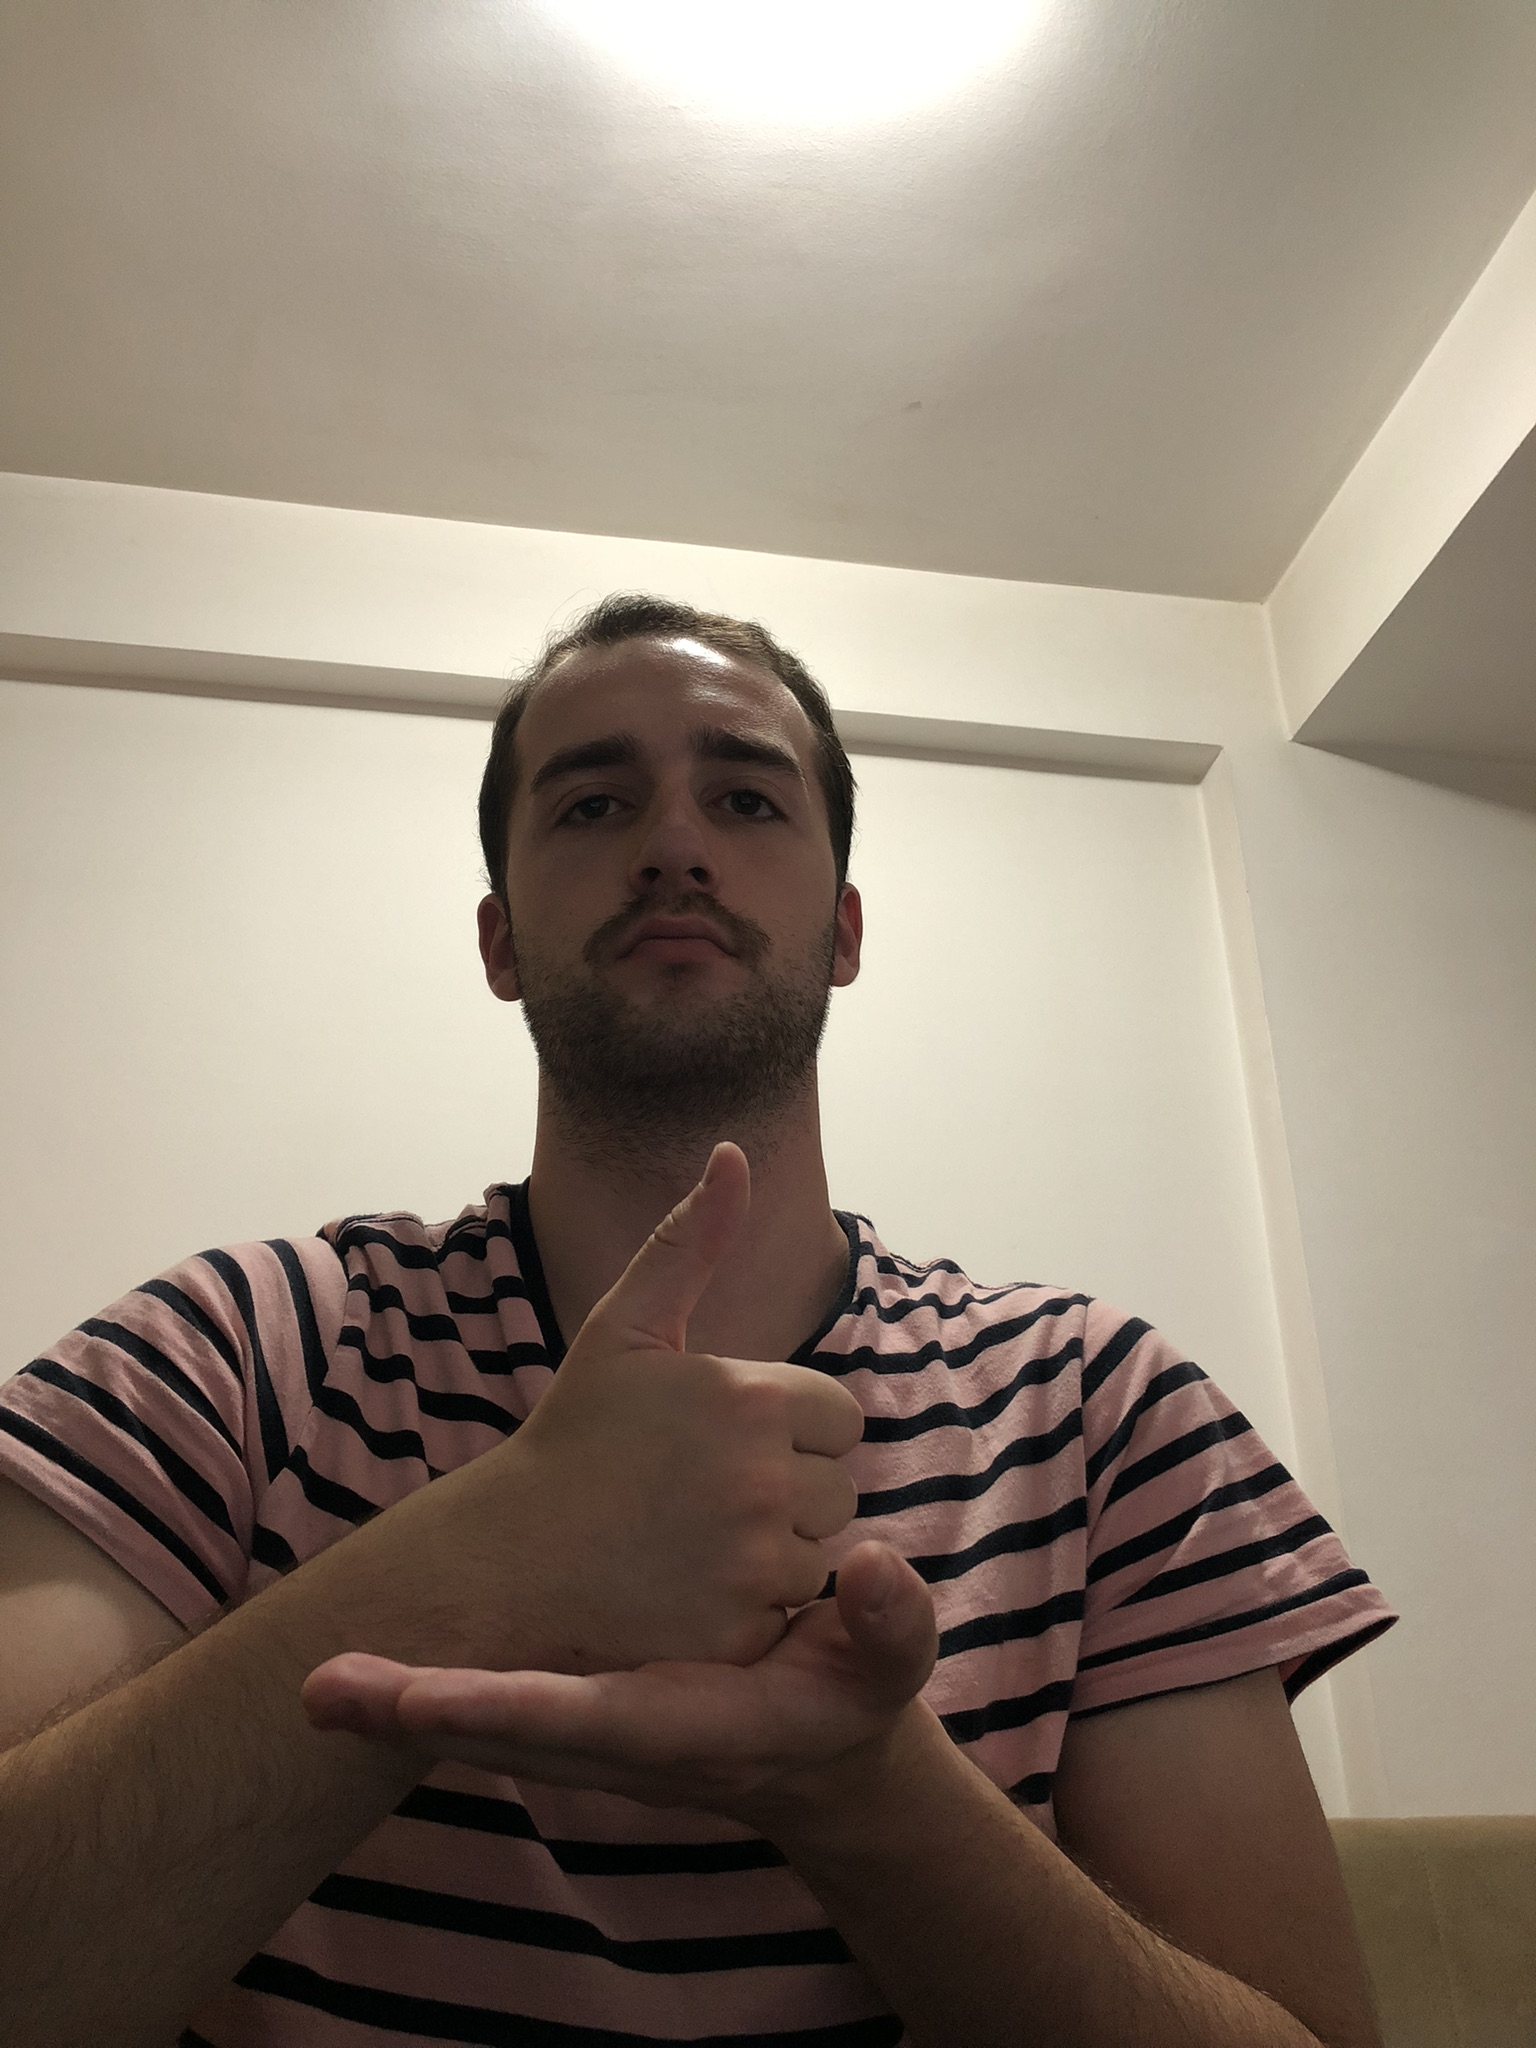Help: (294, 1129, 960, 1816)
